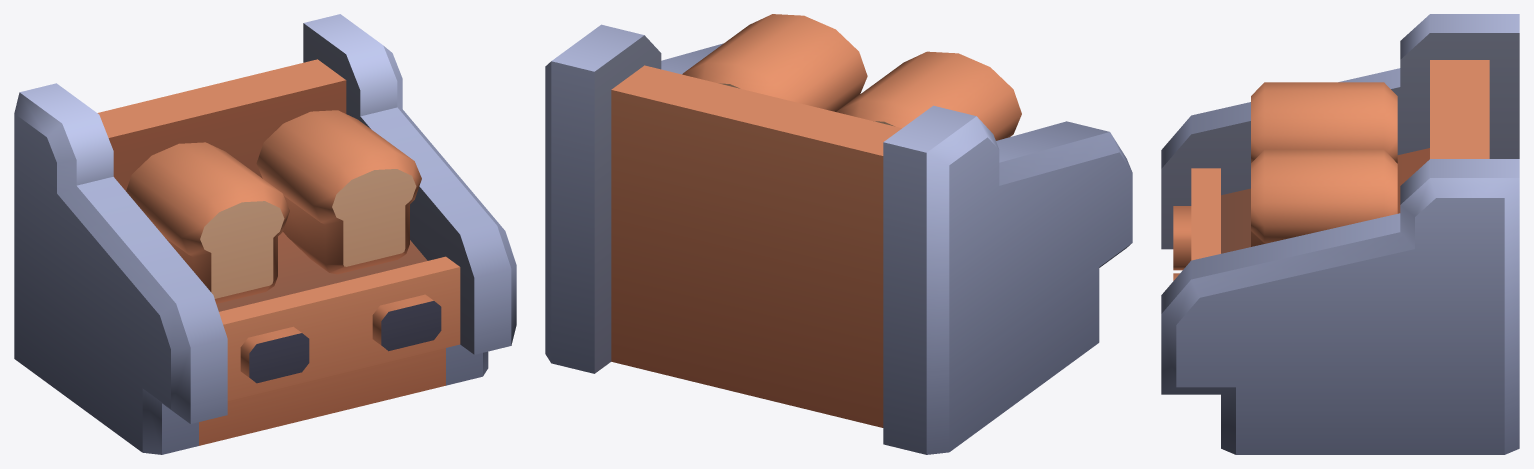
Rendered from display-bread.obj.
3 renders of one model, left to right at view 1: azimuth 30°, elevation 25°; view 2: azimuth 150°, elevation 25°; view 3: azimuth 270°, elevation 25°, orthographic. The views are drawn at different scales.
Visible parts, largest first — view 1: display-bread, bread; view 2: display-bread, bread; view 3: display-bread, bread.
Part boxes in pixels (left/top/right/bottom): display-bread: left=14, top=14, right=516, bottom=454; bread: left=126, top=110, right=421, bottom=303; display-bread: left=545, top=24, right=1132, bottom=454; bread: left=682, top=14, right=1021, bottom=140; display-bread: left=1161, top=14, right=1519, bottom=454; bread: left=1251, top=82, right=1397, bottom=246.
Bounding box in the file's own units: 0.7 × 0.5 × 0.6.
1 material, 1 textured.
